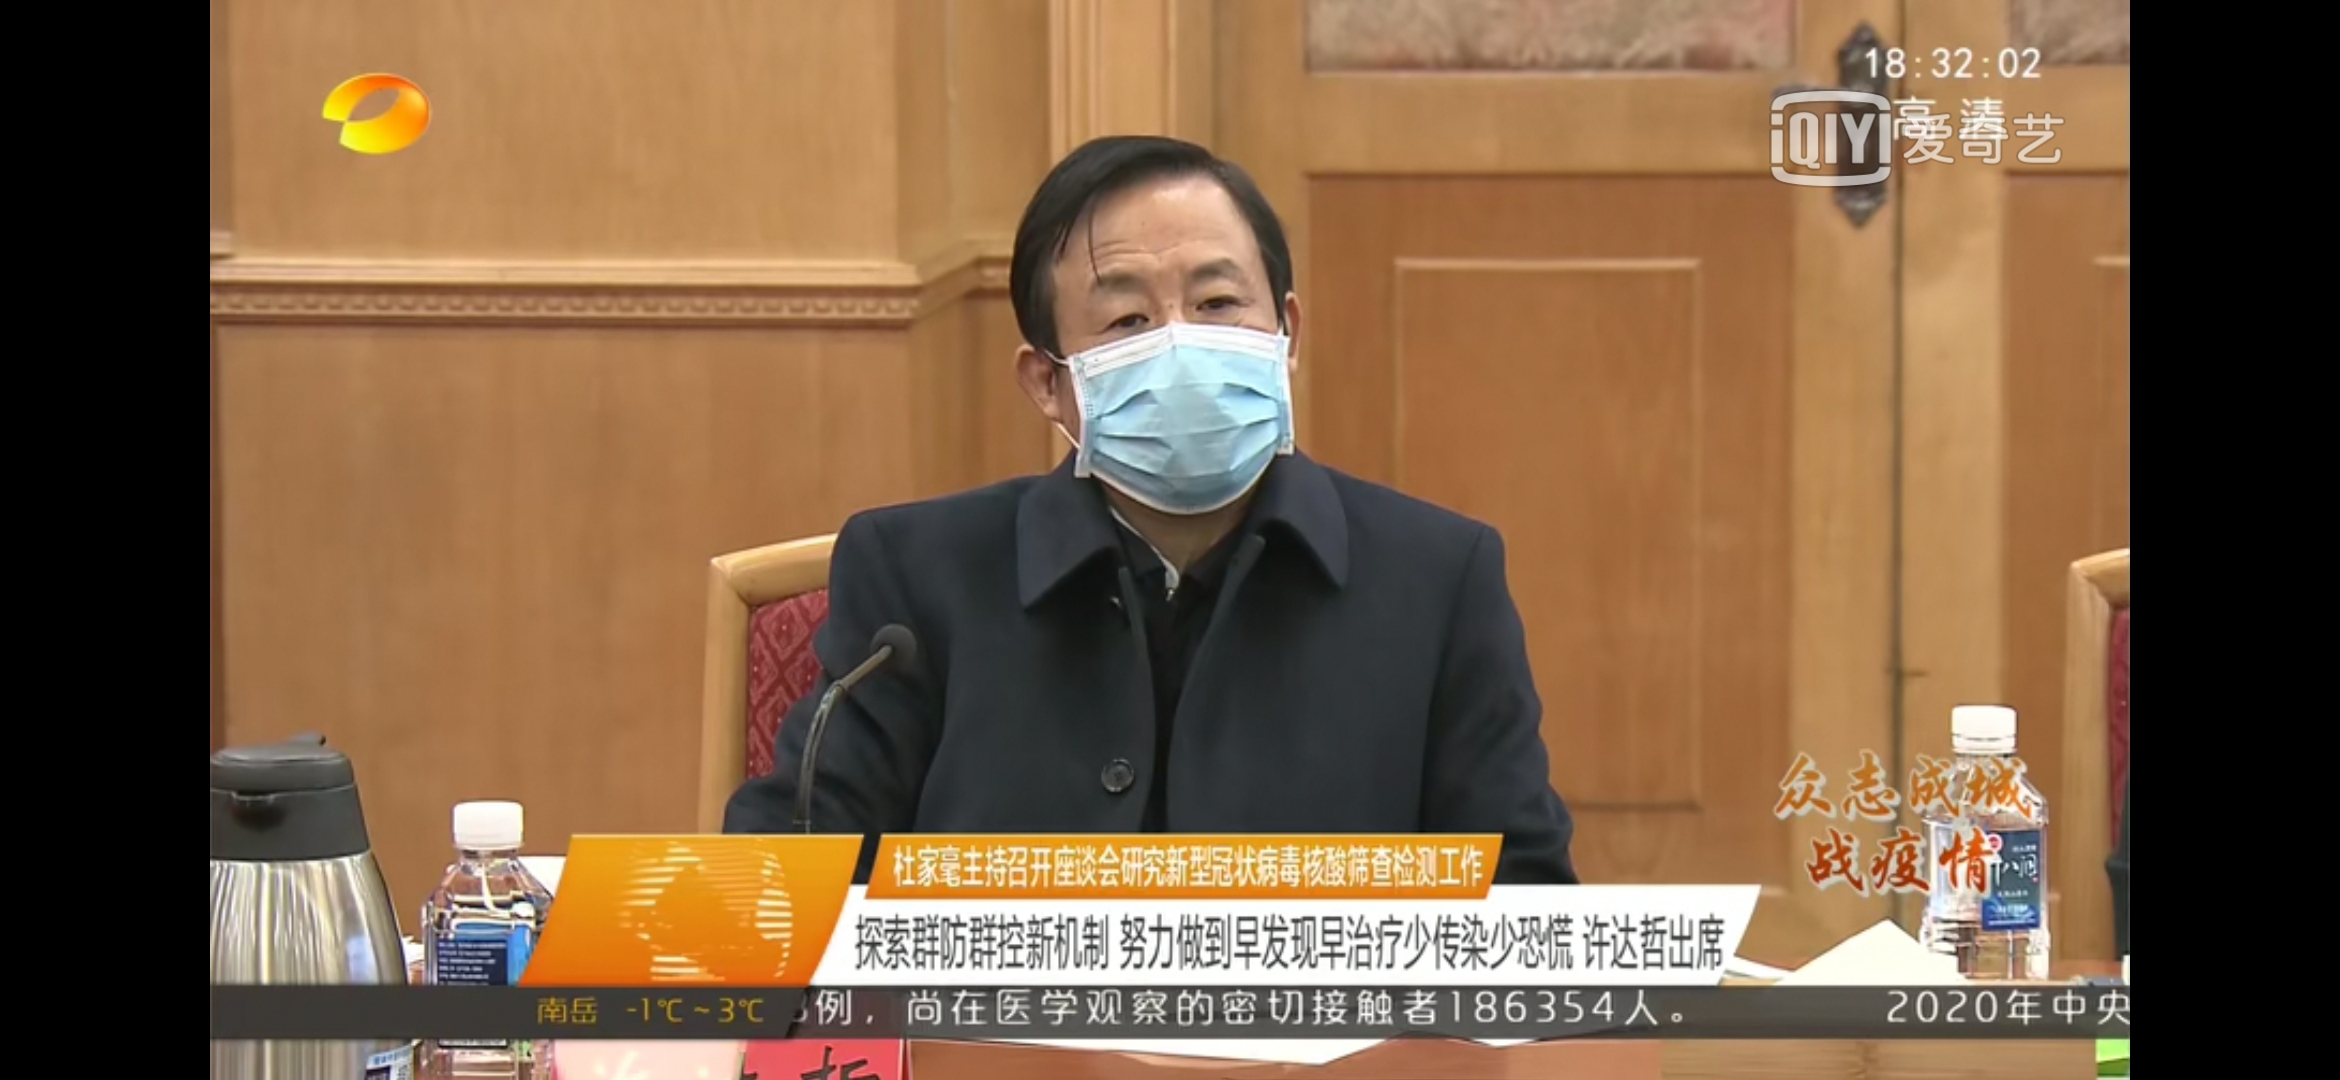correctlyWear: (1016, 210, 1301, 515)
